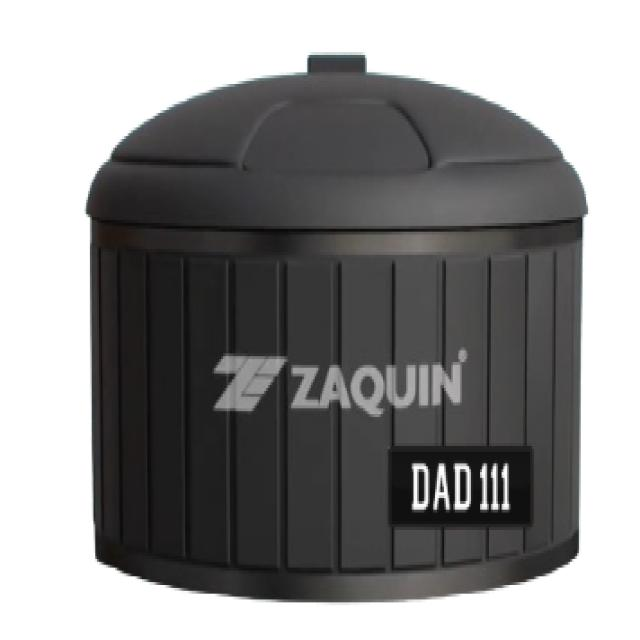bin_plate: (388, 440, 535, 530)
